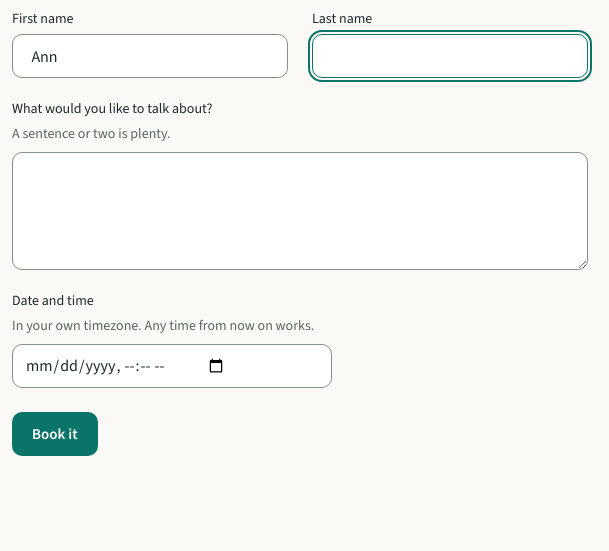
Test: BookingForm server errors › 429 rate limit shows the server message
Earlier steps of the test are not shown.
Type keys "Lee"
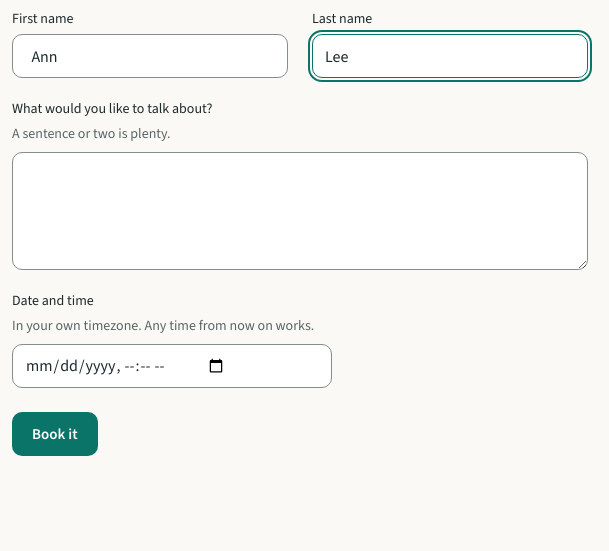
Click the text box labelled "What would you like to talk about?" at [300, 211], box [12,152,588,270]
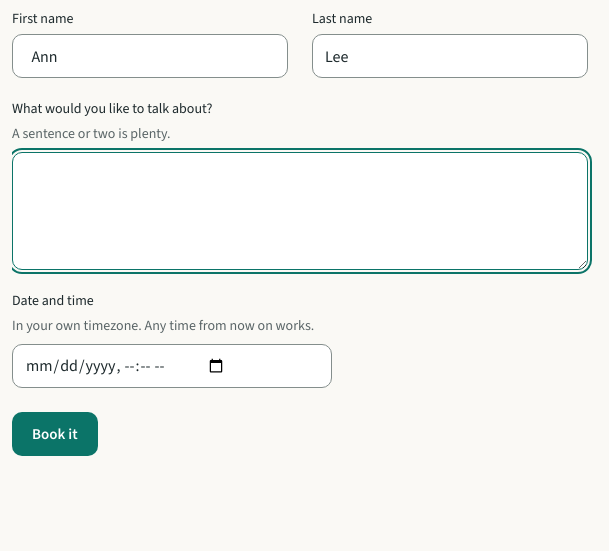
Type keys "Help with my essay"
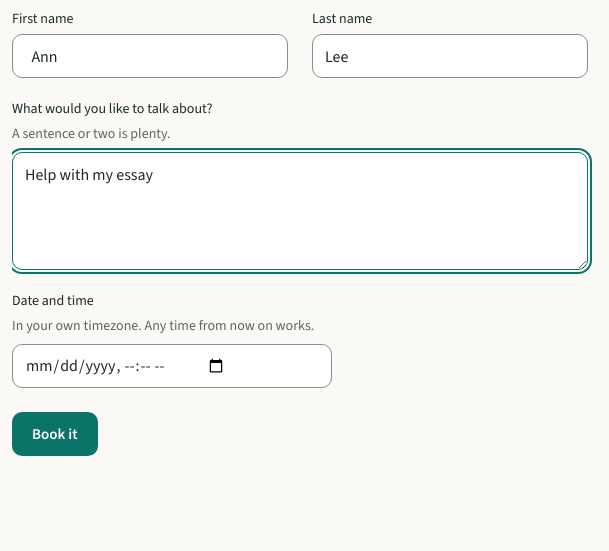
Click the field labelled "Date and time" at [172, 366], box [12,344,332,388]
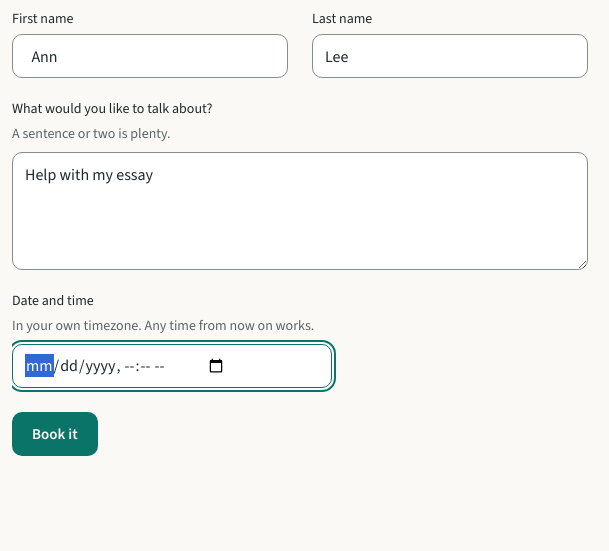
Type keys "2999-01-01T10:00"
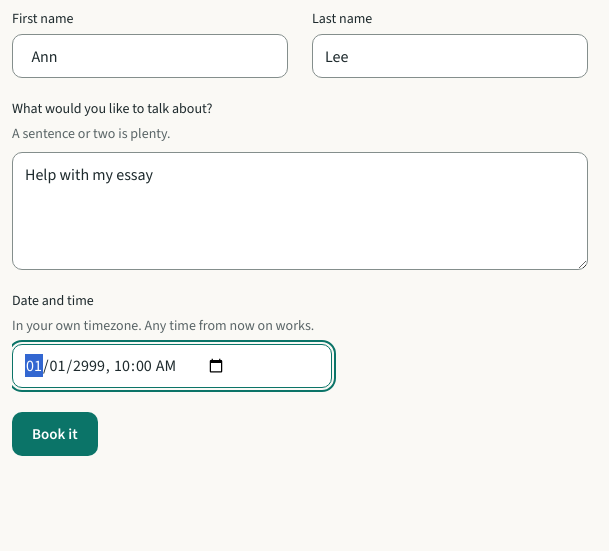
Click the button "Book it" at [55, 434], box [12,412,98,456]
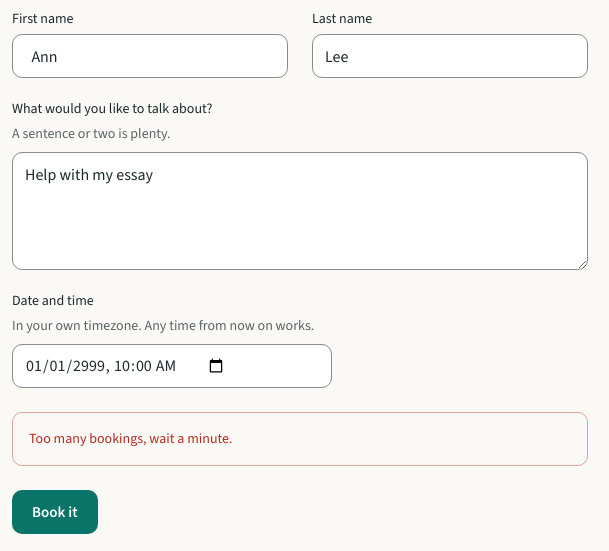
Expected: the text "Too many bookings, wait a minute." is shown, [12,412,588,466]
